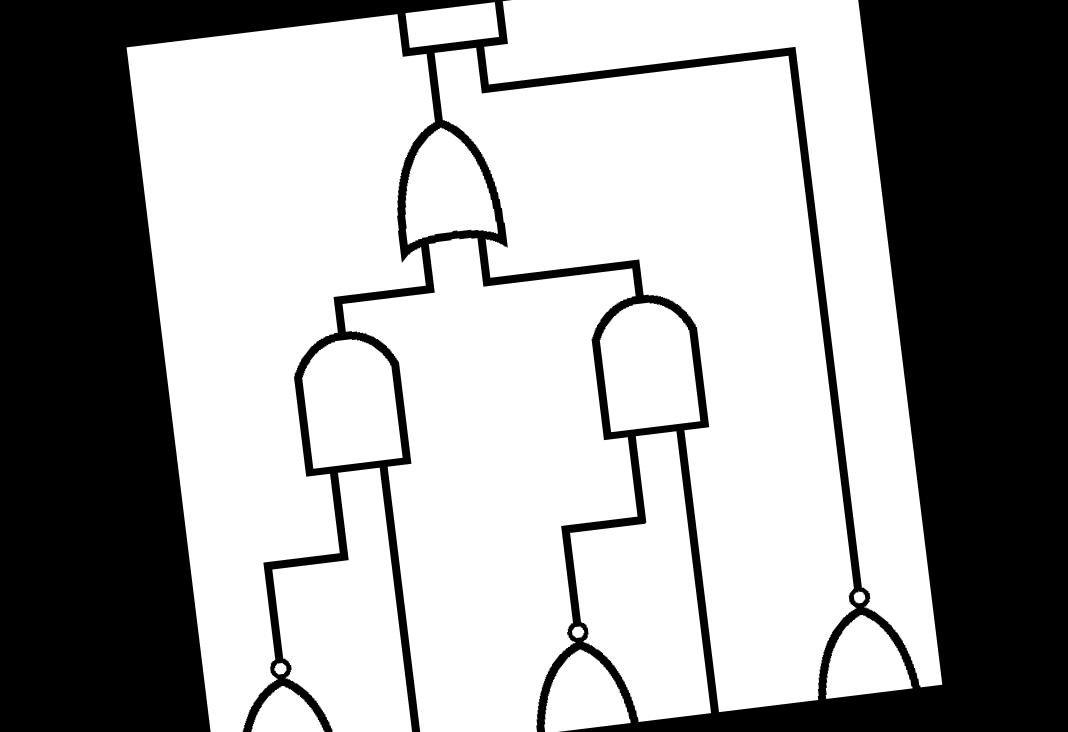and: (558, 272, 724, 462), (277, 315, 422, 497), (386, 0, 522, 71)
nor: (782, 568, 936, 702), (501, 607, 664, 732), (209, 637, 355, 732)
or: (369, 102, 523, 272)
